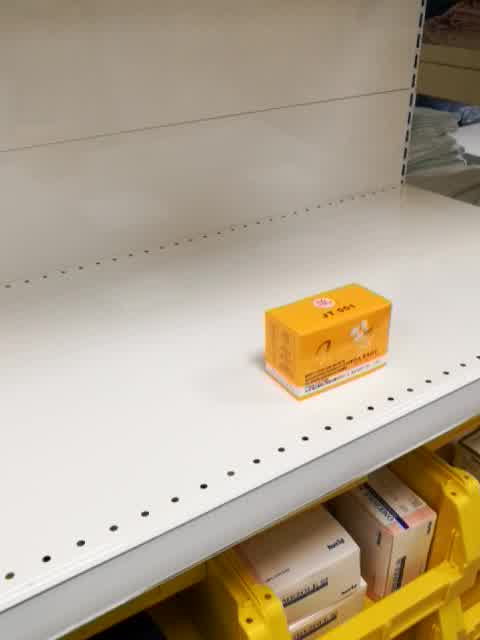jasminetea: (259, 277, 396, 405)
